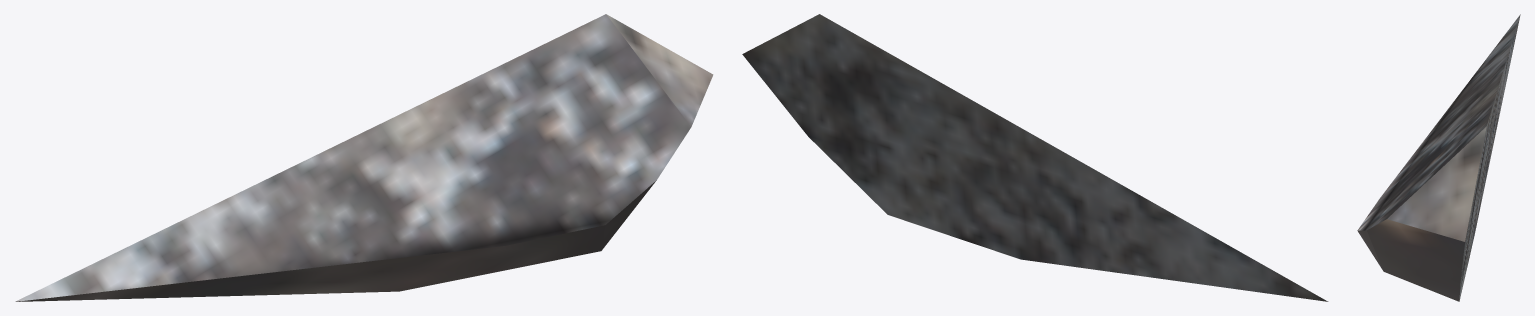
File: Asteroid_Medium_001_02_004_03_002.fbx
The picture shows the model from 3 angles, left to right: view 1: azimuth 30°, elevation 25°; view 2: azimuth 150°, elevation 25°; view 3: azimuth 270°, elevation 25°; orthographic projection. The views are drawn at different scales.
Parts seen in each view (by area): view 1: Asteroid_Medium_001_02_004_03_002; view 2: Asteroid_Medium_001_02_004_03_002; view 3: Asteroid_Medium_001_02_004_03_002.
Part boxes in pixels (<box>): Asteroid_Medium_001_02_004_03_002: <box>15,14,713,301</box>; Asteroid_Medium_001_02_004_03_002: <box>742,14,1328,301</box>; Asteroid_Medium_001_02_004_03_002: <box>1357,14,1520,301</box>.
Bounding box in the file's own units: 4.24 × 1.34 × 0.9483.
